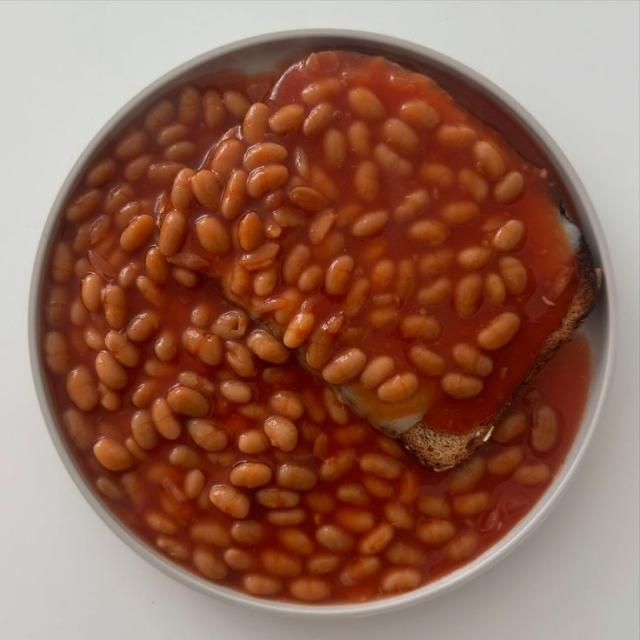beans: (182, 328, 224, 366), (478, 312, 520, 350), (322, 348, 366, 384), (66, 366, 99, 411), (247, 330, 290, 364), (447, 457, 486, 494), (211, 140, 245, 182), (62, 407, 94, 451), (452, 343, 493, 377), (120, 214, 155, 253), (209, 485, 250, 518), (167, 386, 210, 417), (196, 216, 231, 254), (374, 144, 413, 178), (94, 437, 133, 471), (473, 141, 506, 181), (243, 142, 288, 171), (220, 169, 246, 219), (531, 405, 558, 453), (453, 274, 482, 318), (237, 242, 279, 272), (382, 119, 419, 153), (95, 351, 127, 390), (377, 372, 418, 402), (151, 398, 181, 439), (66, 189, 102, 223), (105, 331, 139, 367), (491, 411, 528, 444), (347, 87, 385, 119), (159, 211, 186, 256), (407, 344, 446, 375), (264, 416, 298, 451), (399, 99, 440, 128), (339, 557, 380, 586), (189, 519, 231, 547), (325, 255, 354, 295), (320, 449, 356, 481), (283, 312, 315, 348), (394, 189, 430, 221), (260, 549, 301, 577), (400, 314, 442, 341), (103, 284, 128, 329), (277, 462, 317, 490), (360, 356, 395, 388), (359, 522, 394, 554), (360, 453, 403, 479), (229, 462, 272, 488), (269, 104, 306, 134), (212, 310, 249, 340), (301, 78, 342, 105), (287, 185, 328, 212), (351, 210, 389, 239), (44, 332, 70, 374), (191, 169, 219, 208), (193, 547, 227, 579), (492, 220, 526, 252), (131, 410, 158, 450), (237, 212, 264, 252), (225, 341, 255, 377), (499, 257, 527, 295), (416, 519, 455, 546), (303, 102, 333, 137), (354, 160, 379, 202), (487, 447, 523, 476), (308, 209, 337, 245), (316, 525, 353, 553), (380, 568, 421, 593), (446, 530, 479, 561), (458, 168, 488, 202), (310, 166, 339, 201), (417, 277, 452, 306), (408, 220, 447, 246), (386, 541, 426, 566), (323, 387, 350, 424), (145, 100, 175, 133), (344, 278, 370, 316), (147, 161, 184, 187), (290, 577, 330, 601), (270, 391, 304, 419), (51, 242, 74, 283), (440, 201, 479, 225), (494, 172, 524, 203), (453, 492, 490, 517), (419, 247, 453, 274), (256, 487, 299, 508), (323, 128, 346, 167), (85, 159, 117, 187), (514, 463, 551, 487), (347, 121, 371, 158), (177, 87, 201, 124), (436, 125, 476, 147), (81, 273, 103, 313), (457, 246, 492, 271), (145, 246, 168, 284), (136, 276, 165, 306), (231, 520, 264, 546), (178, 372, 215, 395), (203, 90, 226, 127), (417, 494, 451, 519), (420, 163, 454, 188), (396, 259, 416, 301), (243, 574, 281, 596), (220, 380, 253, 404), (222, 91, 250, 119), (385, 502, 414, 529), (336, 483, 370, 506), (123, 155, 153, 181), (362, 475, 394, 499), (156, 536, 188, 560), (132, 380, 159, 408), (484, 273, 506, 307), (238, 430, 269, 454), (371, 259, 395, 290), (223, 548, 255, 571), (169, 445, 199, 469), (154, 332, 178, 362), (306, 553, 340, 574), (367, 306, 399, 328), (267, 509, 306, 526), (184, 469, 205, 499), (96, 476, 122, 500), (172, 267, 199, 287), (294, 147, 310, 179), (84, 326, 104, 350)
